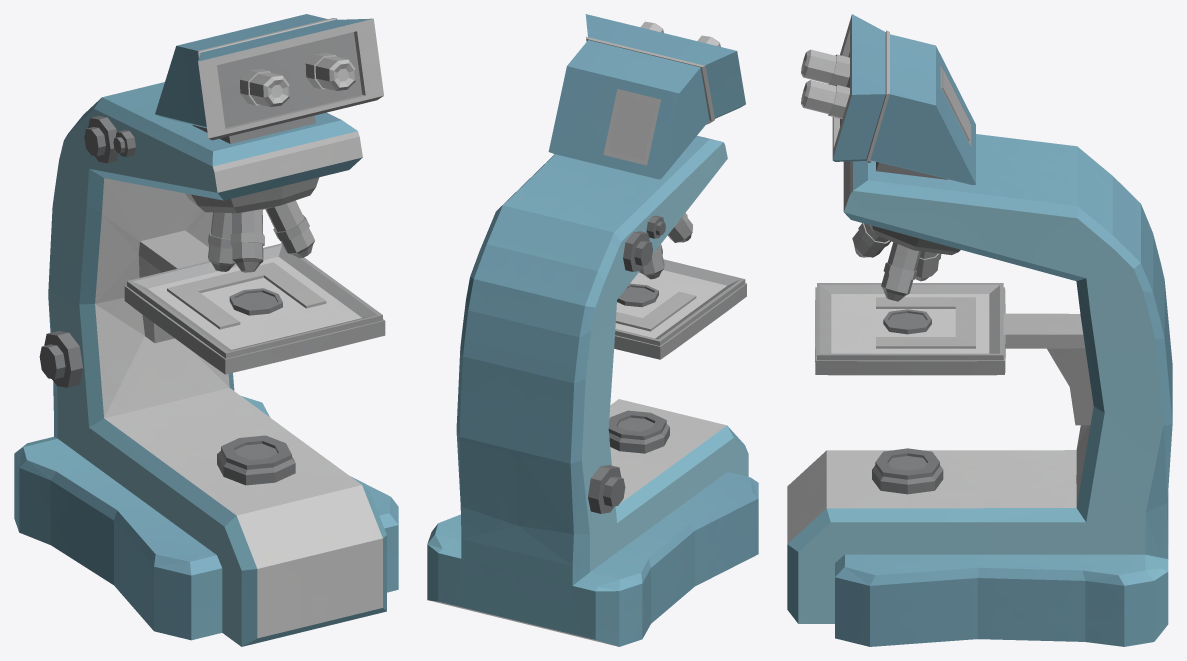
The model's file is microscope.obj.
3 renders of one model, left to right at view 1: azimuth 30°, elevation 25°; view 2: azimuth 150°, elevation 25°; view 3: azimuth 270°, elevation 25°, orthographic. The views are drawn at different scales.
Visible parts, largest first — view 1: microscope_Material; view 2: microscope_Material; view 3: microscope_Material.
Boxes of the visible parts, x1=… form: microscope_Material: x1=14, y1=14, x2=398, y2=646; microscope_Material: x1=427, y1=14, x2=758, y2=646; microscope_Material: x1=787, y1=14, x2=1172, y2=646.
Bounding box in the file's own units: 0.214 × 0.475 × 0.3093.
